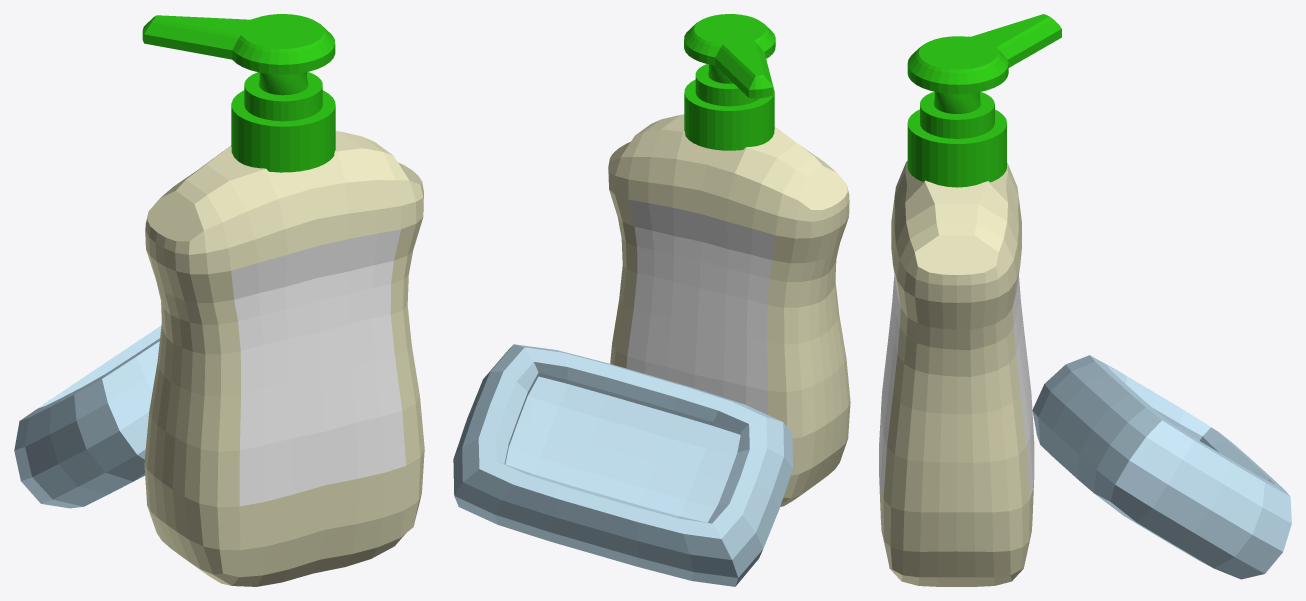
File: Soap.fbx
3 views of the same model, side by side, from view 1: azimuth 30°, elevation 25°; view 2: azimuth 150°, elevation 25°; view 3: azimuth 270°, elevation 25° (orthographic). The views are drawn at different scales.
Visible parts, largest first — view 1: Bar and Bottle; view 2: Bar and Bottle; view 3: Bar and Bottle.
Part boxes in pixels (left/top/right/bottom): Bar and Bottle: left=14, top=14, right=424, bottom=586; Bar and Bottle: left=453, top=14, right=850, bottom=586; Bar and Bottle: left=879, top=14, right=1291, bottom=586.
Size of the model in its own units: 0.4588 by 0.5329 by 0.724.
